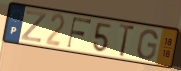2: (44, 13, 67, 49)
5: (92, 22, 114, 54)
F: (66, 17, 93, 50)
G: (135, 29, 159, 62)
T: (117, 23, 137, 59)
Z: (19, 9, 48, 45)
